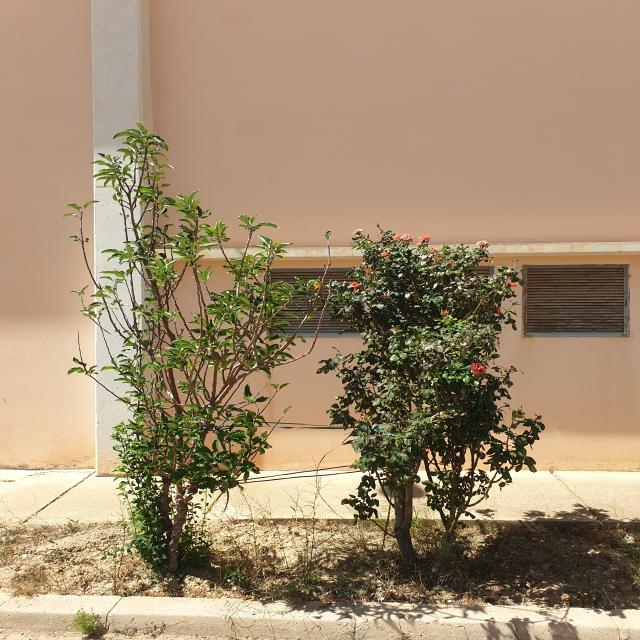Tree: (68, 124, 315, 573), (318, 230, 545, 576)
